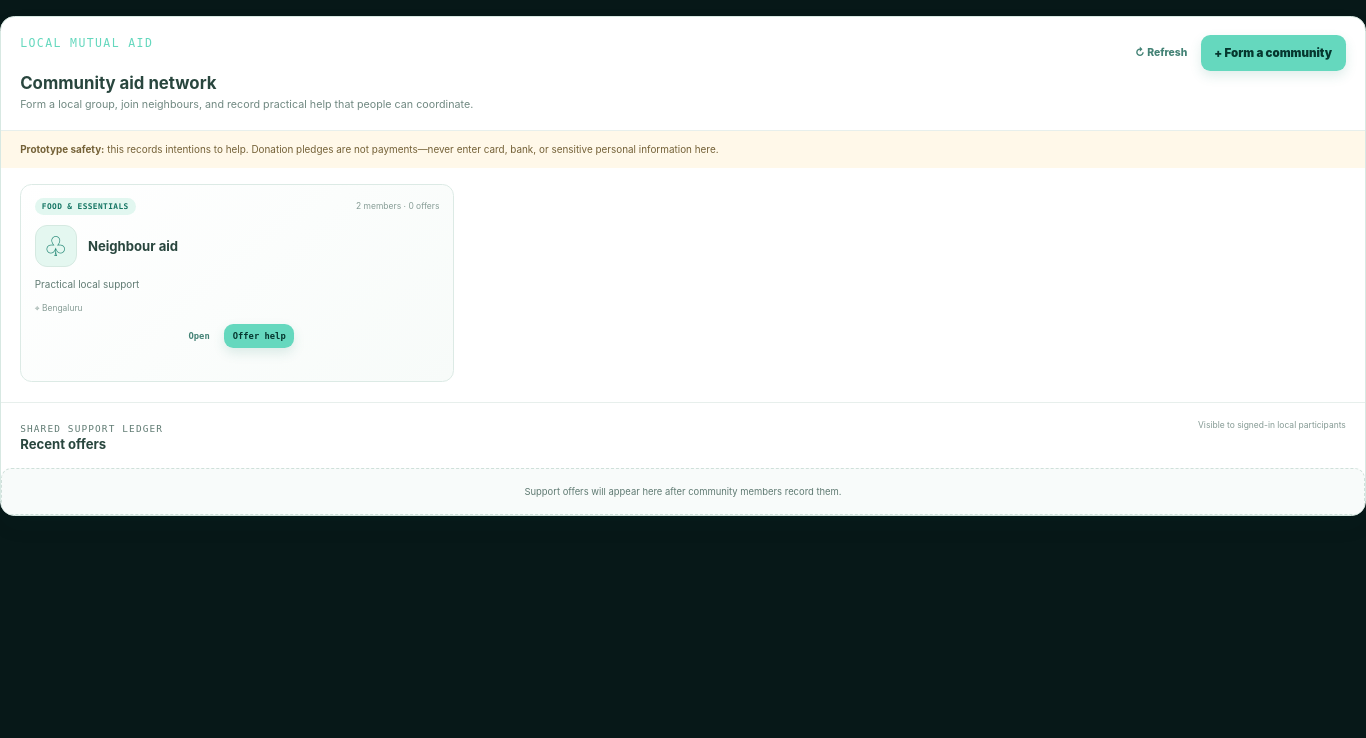
it: renders a pinned announcement and persistent member messages in the dialog
Click the button "Open". click: [199, 336]
box: x1=180 y1=324 x2=218 y2=348
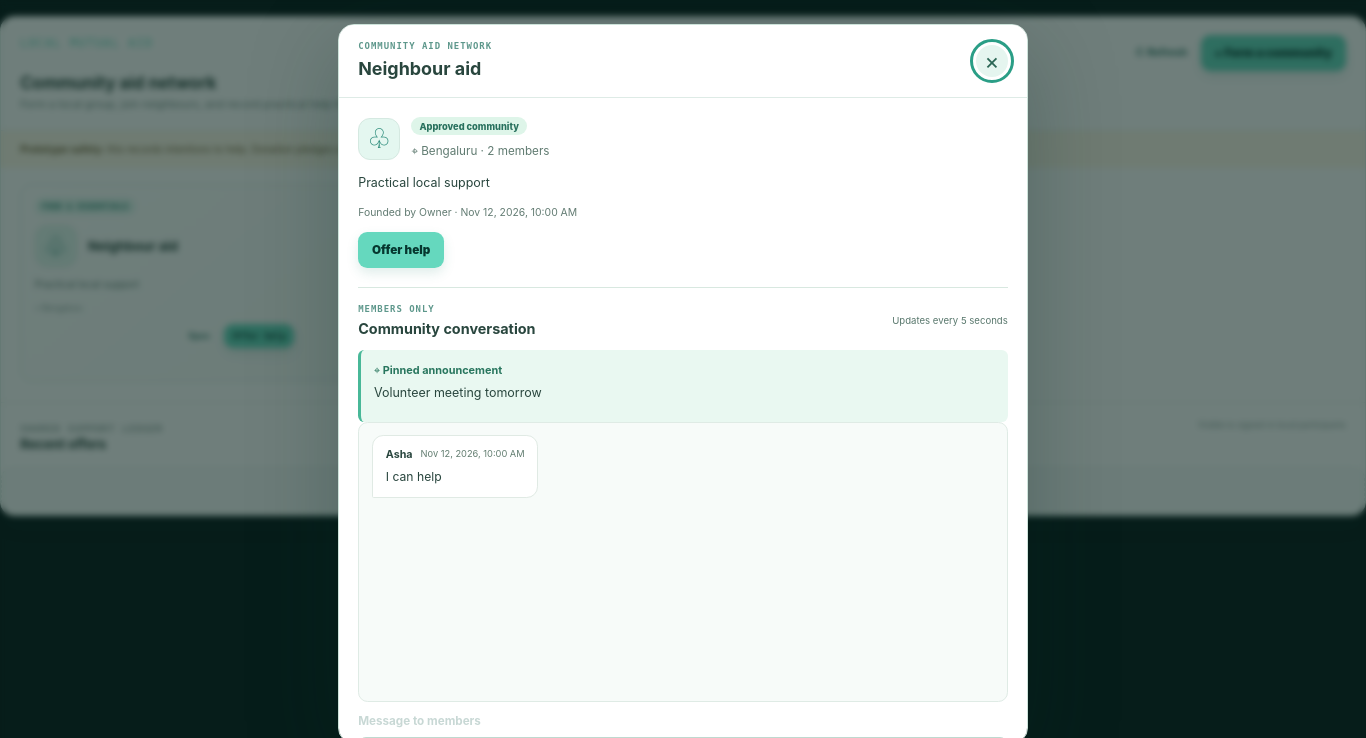
Now the text "Volunteer meeting tomorrow" is shown, box x1=374 y1=385 x2=542 y2=400
Now the text "I can help" is shown, box x1=386 y1=469 x2=442 y2=484
Now the text "Asha" is shown, box x1=386 y1=448 x2=413 y2=461
